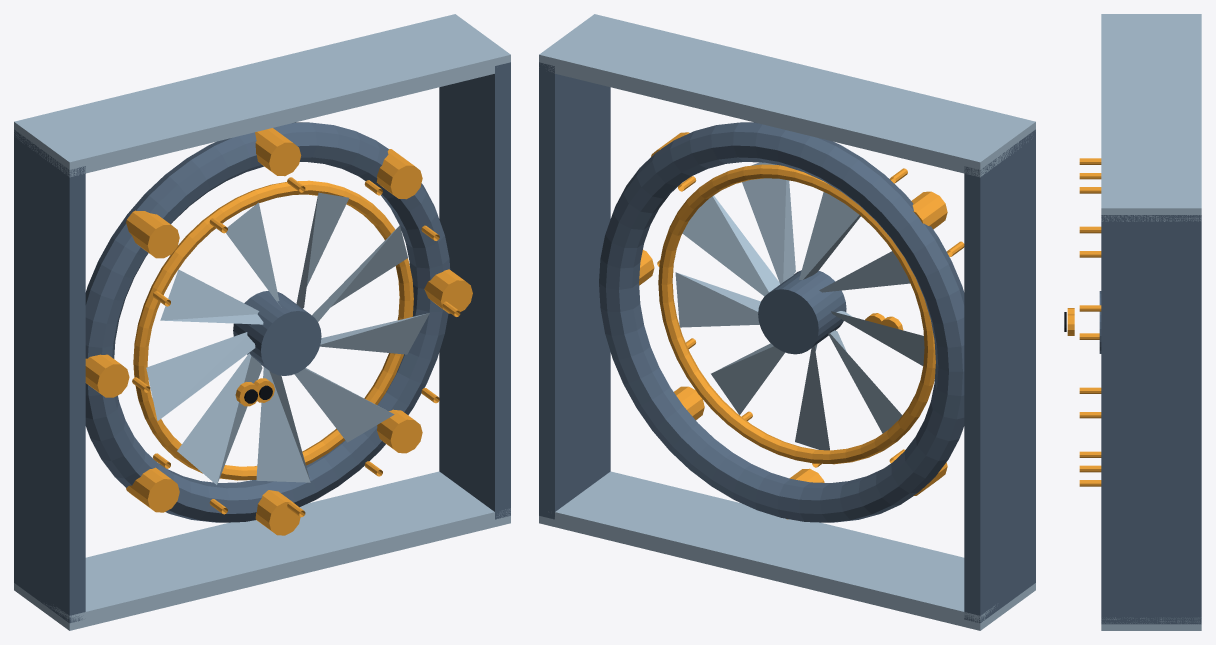
Rendered from 57_L88_VentilationSecondaryCirculationBlower.fbx.
The picture shows the model from 3 angles, left to right: view 1: azimuth 30°, elevation 25°; view 2: azimuth 150°, elevation 25°; view 3: azimuth 270°, elevation 25°; orthographic projection. The views are drawn at different scales.
Visible parts, largest first — view 1: L87_VentilationSecondaryCirculationBlowe_Part_0000, L87_VentilationSecondaryCirculationBlowe_Part_0005, L87_VentilationSecondaryCirculationBlowe_Part_0004, L87_VentilationSecondaryCirculationBlowe_Part_0001, L87_VentilationSecondaryCirculationBlowe_Part_0003, L87_VentilationSecondaryCirculationBlowe_Part_0002; view 2: L87_VentilationSecondaryCirculationBlowe_Part_0000, L87_VentilationSecondaryCirculationBlowe_Part_0005, L87_VentilationSecondaryCirculationBlowe_Part_0004, L87_VentilationSecondaryCirculationBlowe_Part_0001, L87_VentilationSecondaryCirculationBlowe_Part_0003; view 3: L87_VentilationSecondaryCirculationBlowe_Part_0000, L87_VentilationSecondaryCirculationBlowe_Part_0005, L87_VentilationSecondaryCirculationBlowe_Part_0001.
Boxes of the visible parts, x1,y1,x2,y2 form: L87_VentilationSecondaryCirculationBlowe_Part_0000: (14,62,510,623); L87_VentilationSecondaryCirculationBlowe_Part_0005: (14,14,510,630); L87_VentilationSecondaryCirculationBlowe_Part_0004: (146,192,429,484); L87_VentilationSecondaryCirculationBlowe_Part_0001: (85,128,472,535); L87_VentilationSecondaryCirculationBlowe_Part_0003: (233,291,321,375); L87_VentilationSecondaryCirculationBlowe_Part_0002: (377,409,422,453); L87_VentilationSecondaryCirculationBlowe_Part_0000: (539,62,1035,623); L87_VentilationSecondaryCirculationBlowe_Part_0005: (539,14,1035,630); L87_VentilationSecondaryCirculationBlowe_Part_0004: (675,162,924,450); L87_VentilationSecondaryCirculationBlowe_Part_0001: (639,132,964,519); L87_VentilationSecondaryCirculationBlowe_Part_0003: (758,270,846,354); L87_VentilationSecondaryCirculationBlowe_Part_0000: (1101,215,1201,624); L87_VentilationSecondaryCirculationBlowe_Part_0005: (1101,14,1201,630); L87_VentilationSecondaryCirculationBlowe_Part_0001: (1079,158,1101,486).
Size of the model in its own units: 275 by 279 by 82.2.
